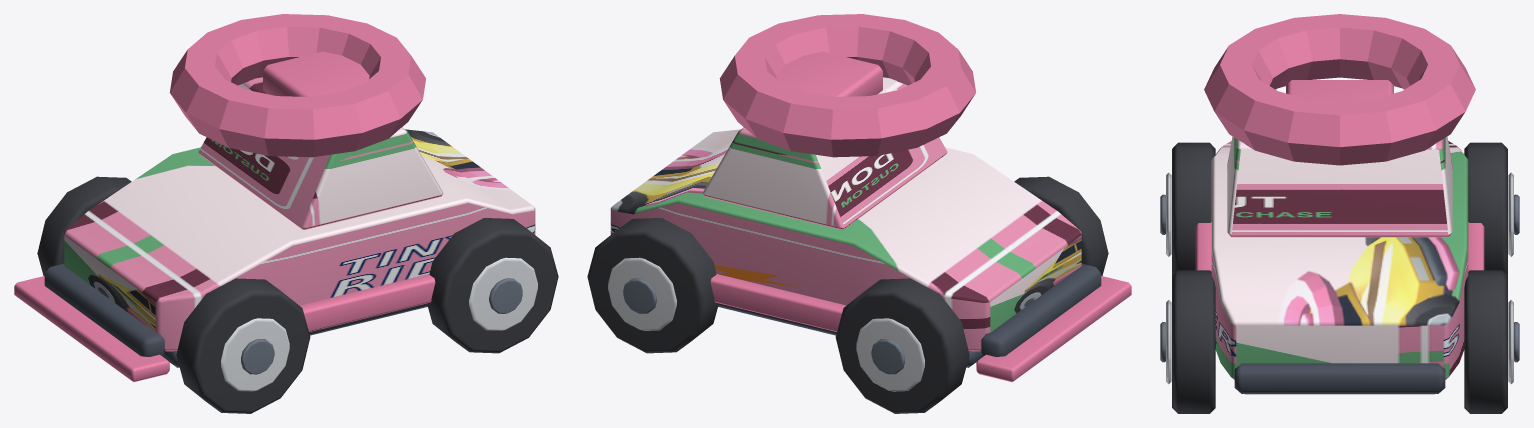
3 views of the same model, side by side, from view 1: azimuth 30°, elevation 25°; view 2: azimuth 150°, elevation 25°; view 3: azimuth 270°, elevation 25° (orthographic). The views are drawn at different scales.
Visible parts, largest first — view 1: SS-05_connected_shell, real donut ring, SS-05_cabin, Tire, Tire.002, custom chin, front bumper, custom side guard, custom equipment, Tire.001, Rim, Rim.002 (+3 smaller); view 2: SS-05_connected_shell, real donut ring, SS-05_cabin, Tire.001, Tire.003, custom chin, front bumper, custom side guard.001, custom equipment, Tire, Rim.001, Rim.003 (+3 smaller); view 3: SS-05_connected_shell, real donut ring, SS-05_cabin, rear bumper, Tire.002, Tire.003, Tire, Tire.001, custom equipment, custom side guard, custom side guard.001, Rim (+3 smaller).
Boxes of the visible parts, x1,y1,x2,y2 form: SS-05_connected_shell: [64, 129, 535, 351]; real donut ring: [169, 14, 426, 157]; SS-05_cabin: [198, 77, 443, 230]; Tire: [176, 278, 310, 413]; Tire.002: [427, 218, 558, 353]; custom chin: [14, 276, 169, 382]; front bumper: [44, 263, 165, 356]; custom side guard: [299, 274, 435, 331]; custom equipment: [263, 51, 369, 96]; Tire.001: [37, 176, 131, 275]; Rim: [221, 318, 289, 391]; Rim.002: [469, 257, 537, 330]; SS-05_connected_shell: [610, 129, 1081, 351]; real donut ring: [719, 14, 976, 157]; SS-05_cabin: [702, 77, 947, 230]; Tire.001: [835, 278, 969, 413]; Tire.003: [587, 218, 718, 353]; custom chin: [976, 276, 1131, 382]; front bumper: [980, 263, 1101, 356]; custom side guard.001: [710, 274, 846, 331]; custom equipment: [776, 51, 882, 96]; Tire: [1014, 176, 1108, 275]; Rim.001: [856, 318, 924, 391]; Rim.003: [608, 257, 676, 330]; SS-05_connected_shell: [1211, 141, 1468, 379]; real donut ring: [1204, 14, 1475, 165]; SS-05_cabin: [1227, 136, 1452, 237]; rear bumper: [1234, 363, 1445, 393]; Tire.002: [1172, 270, 1215, 413]; Tire.003: [1464, 270, 1507, 413]; Tire: [1172, 142, 1215, 275]; Tire.001: [1464, 142, 1507, 275]; custom equipment: [1286, 80, 1393, 101]; custom side guard: [1195, 222, 1211, 271]; custom side guard.001: [1468, 222, 1484, 271]; Rim: [1166, 172, 1171, 256].
Bounding box in the file's own units: 309 × 183 × 214.
